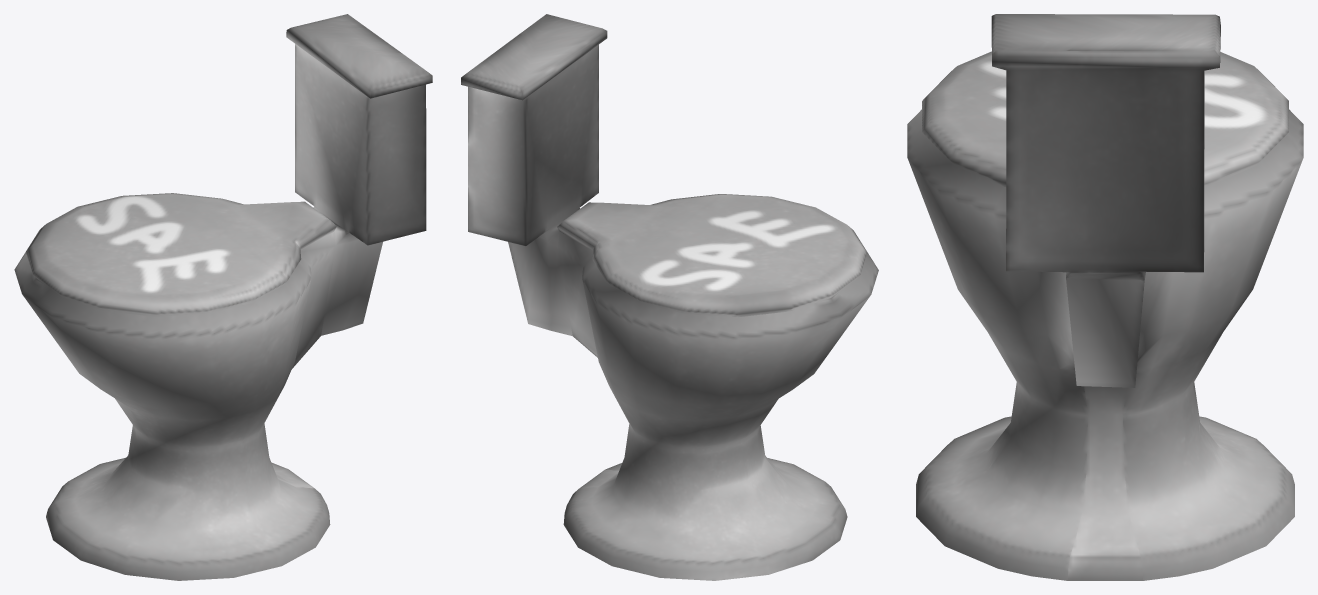
3 renders of one model, left to right at view 1: azimuth 30°, elevation 25°; view 2: azimuth 150°, elevation 25°; view 3: azimuth 270°, elevation 25°, orthographic. The views are drawn at different scales.
Parts seen in each view (by area): view 1: SAE; view 2: SAE; view 3: SAE.
Part boxes in pixels (bbox=[...]): SAE: bbox=[14, 14, 432, 580]; SAE: bbox=[461, 14, 878, 580]; SAE: bbox=[907, 14, 1303, 580].
Size of the model in its own units: 92.4 by 107 by 65.99.
